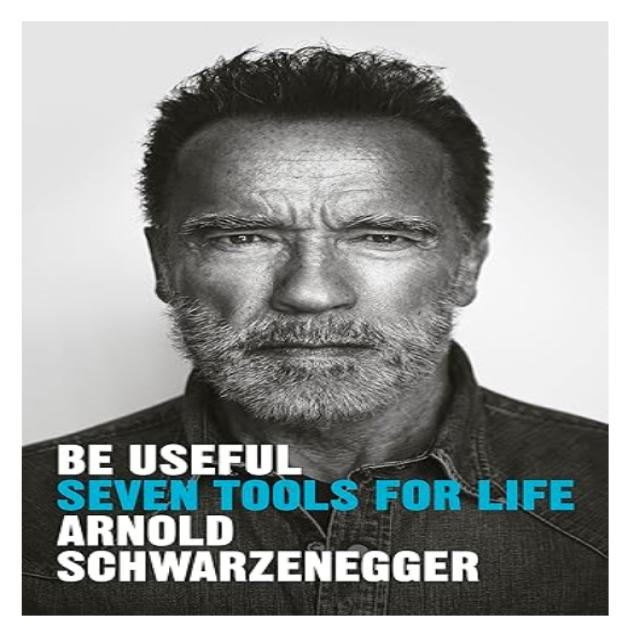titles-or-authors: (46, 435, 582, 512), (44, 510, 499, 589)
